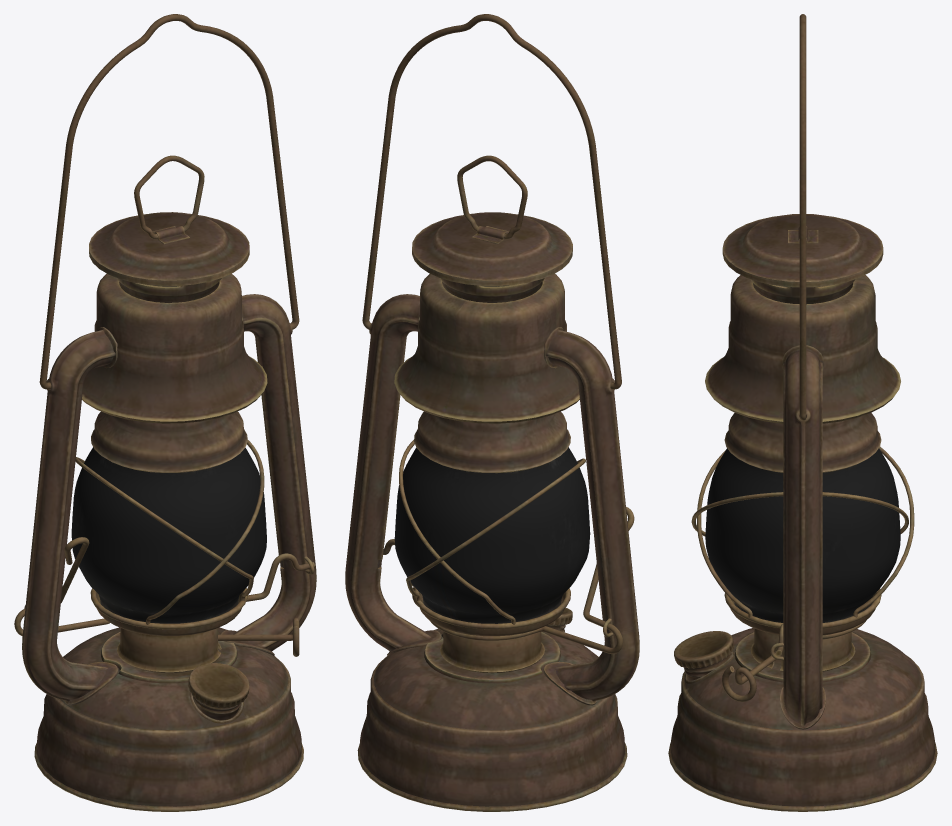
The model's file is lantern_01.glb.
The picture shows the model from 3 angles, left to right: view 1: azimuth 30°, elevation 25°; view 2: azimuth 150°, elevation 25°; view 3: azimuth 270°, elevation 25°; orthographic projection.
Parts seen in each view (by area): view 1: Lantern_01, Lantern_01_glass; view 2: Lantern_01, Lantern_01_glass; view 3: Lantern_01, Lantern_01_glass.
Boxes of the visible parts, box(x1,y1,x2,y2) form: Lantern_01: box(14, 14, 316, 811); Lantern_01_glass: box(71, 447, 266, 623); Lantern_01: box(345, 14, 639, 811); Lantern_01_glass: box(394, 447, 590, 623); Lantern_01: box(668, 14, 937, 811); Lantern_01_glass: box(705, 448, 900, 622).
Size of the model in its own units: 0.1221 by 0.2942 by 0.0972.
Materials: 9 (6 with a texture image).
